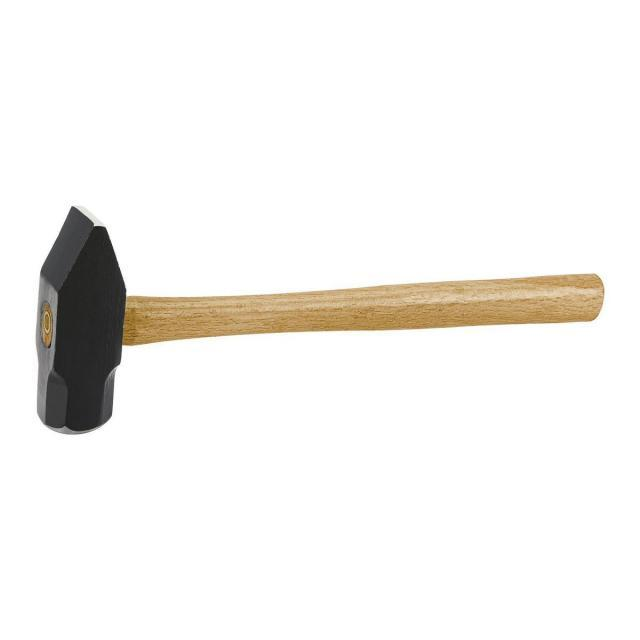hammer: (28, 191, 612, 439)
